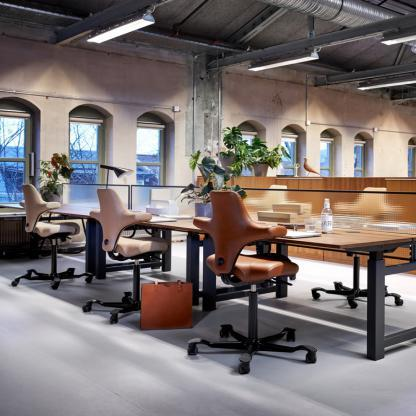chair: (187, 175, 318, 380), (80, 182, 168, 328), (4, 175, 76, 291)
light: (76, 7, 159, 54), (0, 157, 137, 181), (240, 43, 322, 75), (353, 72, 416, 102), (372, 22, 416, 48)
table: (32, 197, 416, 366)
